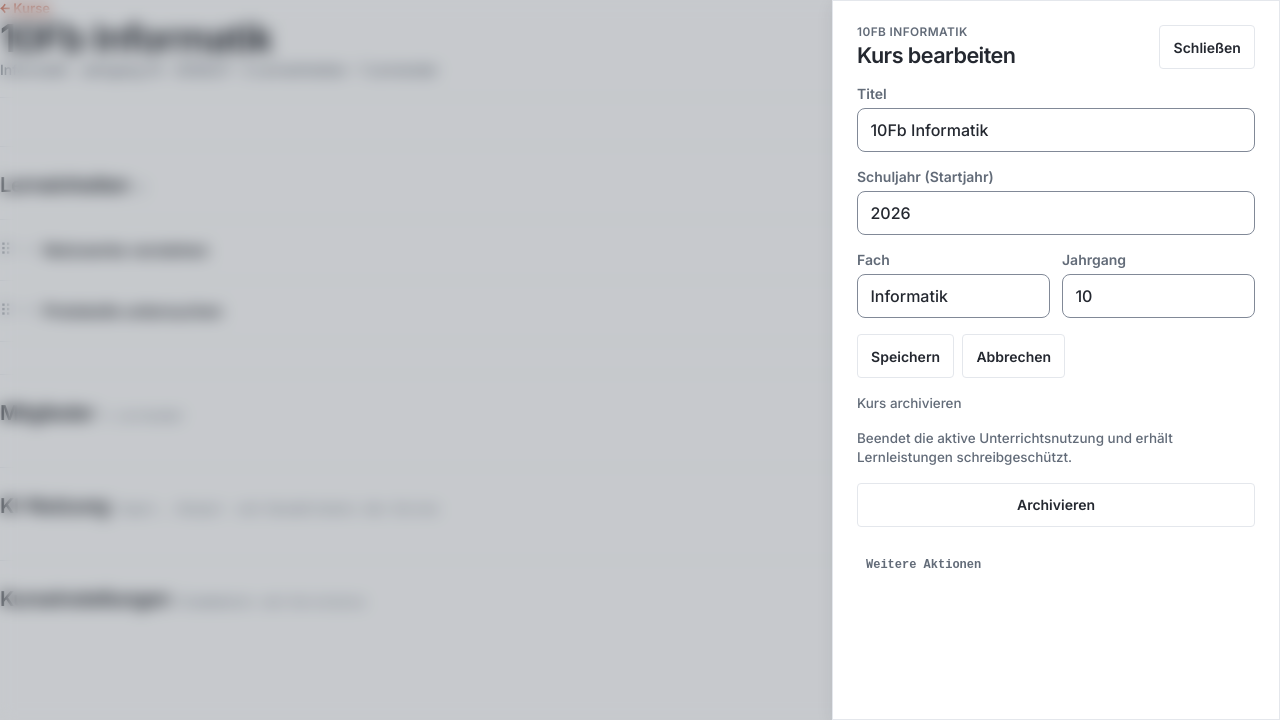
Test: teacher course detail page › reopens the course drawer immediately after closing it
The image size is (1280, 720).
Expected: the dialog "Kurs bearbeiten" is shown, x1=832 y1=0 x2=1279 y2=719
Press Escape
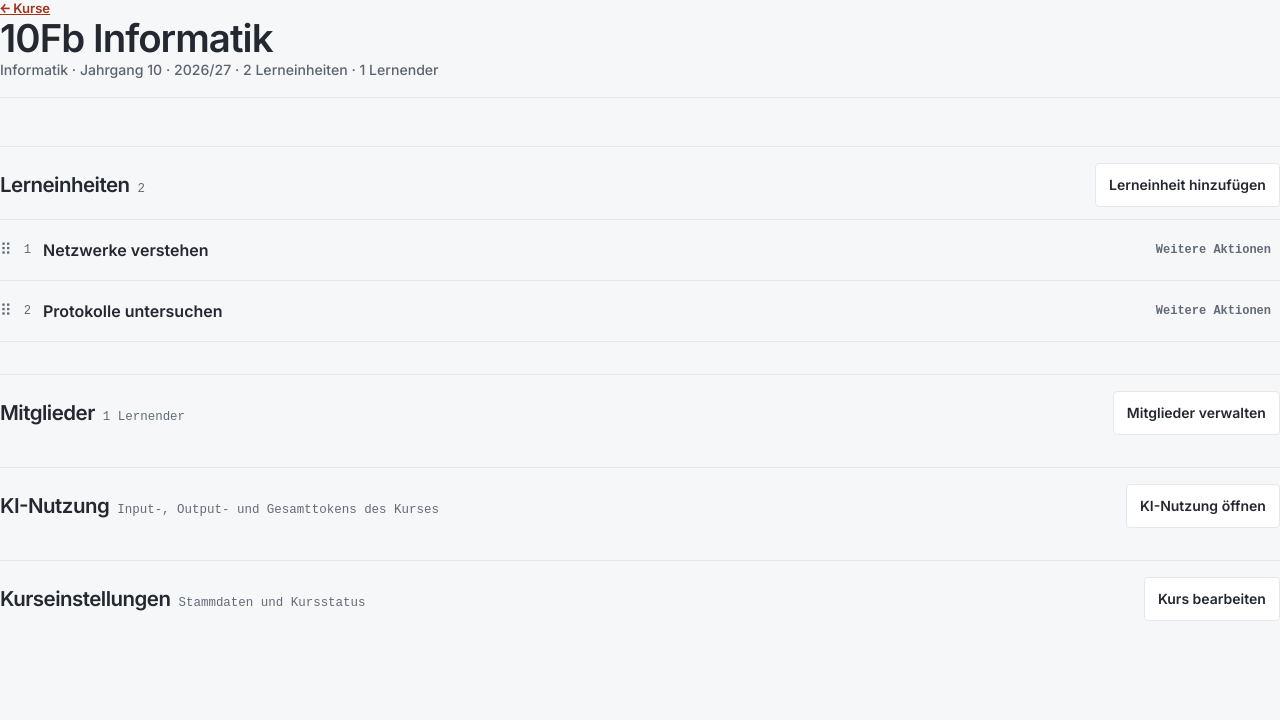
Click the link "Kurs bearbeiten".
click(1212, 599)  # box x1=1144 y1=577 x2=1279 y2=621
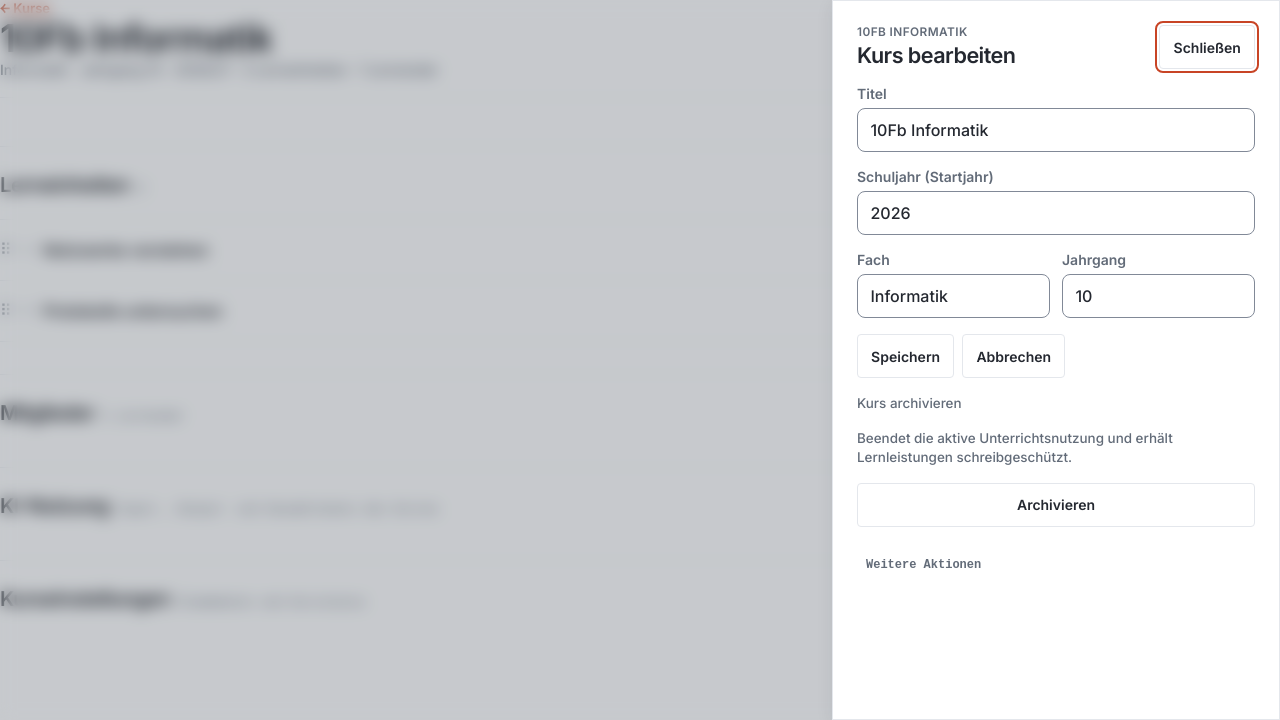
Expected: the dialog "Kurs bearbeiten" is shown, x1=832 y1=0 x2=1279 y2=719
